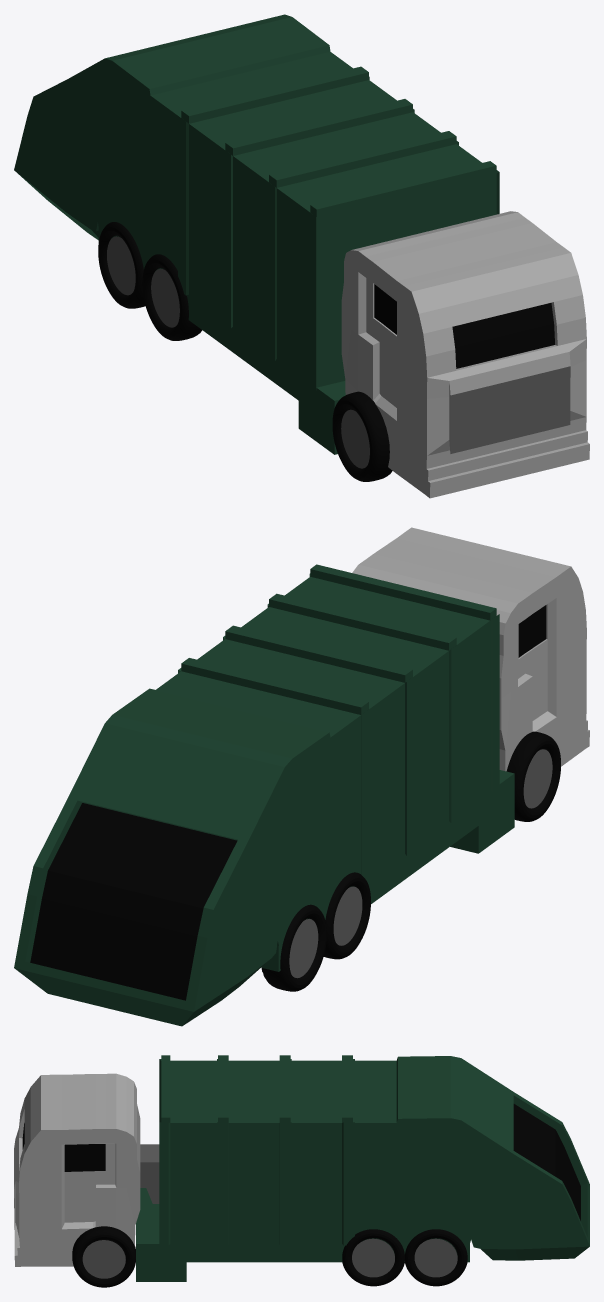
Rendered from REYUCYLCIONG TURCK ).fbx.
3 views of the same model, one above another, from view 1: azimuth 30°, elevation 25°; view 2: azimuth 150°, elevation 25°; view 3: azimuth 270°, elevation 25° (orthographic). The views are drawn at different scales.
Visible parts, largest first — view 1: Cube, Cube.002, Cylinder, Cylinder.001, Cylinder.002; view 2: Cube, Cube.002, Cylinder, Cylinder.002, Cylinder.001; view 3: Cube, Cube.002, Cylinder, Cylinder.002, Cylinder.001, Cube.001.
Boxes of the visible parts, x1,y1,x2,y2 form: Cube: (14,14,499,454); Cube.002: (341,211,589,498); Cylinder: (332,391,392,481); Cylinder.001: (142,254,202,340); Cylinder.002: (98,222,145,308); Cube: (14,564,514,1026); Cube.002: (352,527,589,771); Cylinder: (506,731,560,821); Cylinder.002: (261,904,326,991); Cylinder.001: (323,872,370,959); Cube: (136,1055,589,1281); Cube.002: (14,1073,140,1266); Cylinder: (72,1226,135,1287); Cylinder.002: (405,1229,467,1286); Cylinder.001: (342,1229,404,1286); Cube.001: (140,1144,159,1203).
Size of the model in its own units: 84.45 by 103 by 314.
